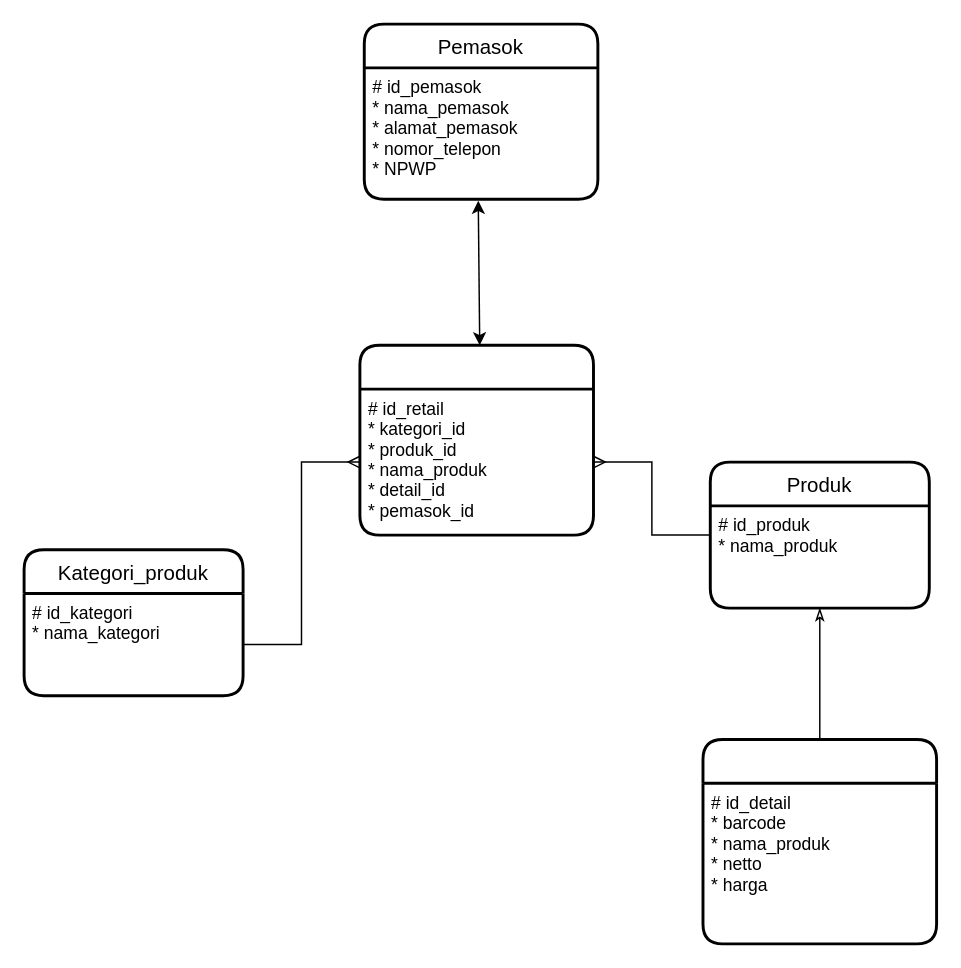
This 961x968 diagram has some shape labels left out. The shapes that lost their labels are listed below. From the top down, each one's box as (x1, y1, x2, y2) in pixels, then its label:
(358, 343, 594, 536): Toko_retail
(701, 737, 937, 945): Detail_produk
